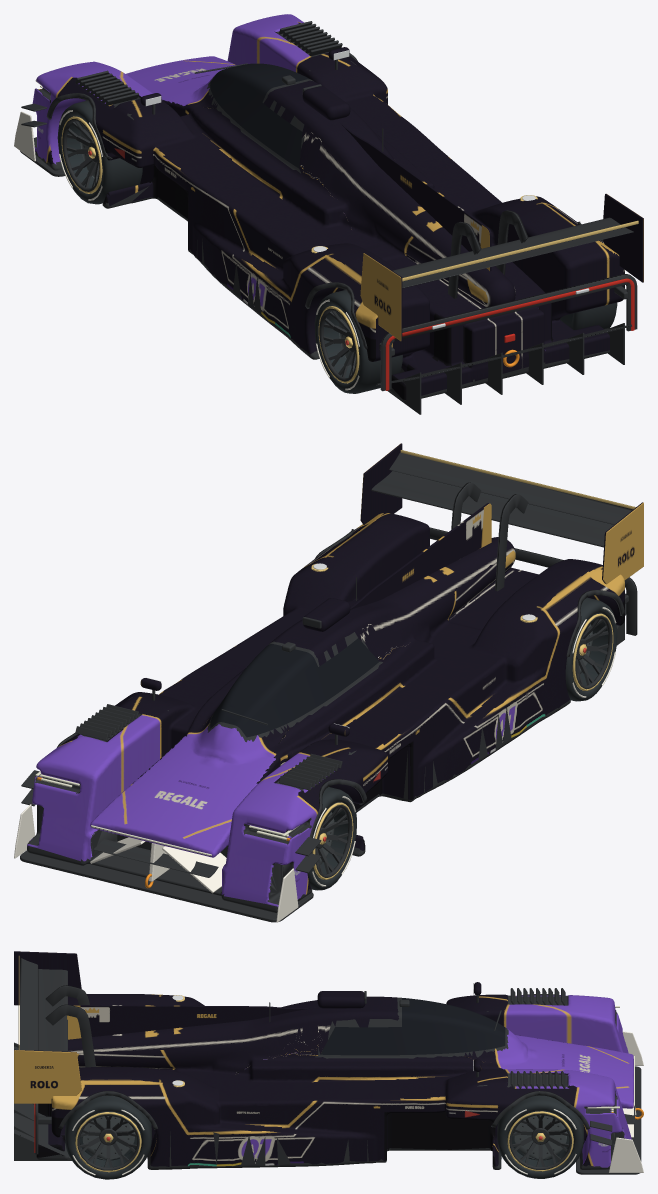
The model's file is regale_lod1.fbx.
The picture shows the model from 3 angles, top to bottom: view 1: azimuth 30°, elevation 25°; view 2: azimuth 150°, elevation 25°; view 3: azimuth 270°, elevation 25°; orthographic projection. The views are drawn at different scales.
Visible parts, largest first — view 1: Body, Wheel_FL_Mesh, Wheel_RL_Mesh, Wheel_RR_Mesh; view 2: Body, Wheel_RL_Mesh, Wheel_FL_Mesh; view 3: Body, Wheel_RR_Mesh, Wheel_FR_Mesh.
Part boxes in pixels (x1,y1,x2,y2): Body: [14, 14, 643, 414]; Wheel_FL_Mesh: [57, 101, 142, 204]; Wheel_RL_Mesh: [314, 290, 402, 393]; Wheel_RR_Mesh: [560, 302, 617, 329]; Body: [14, 443, 643, 922]; Wheel_RL_Mesh: [565, 597, 617, 701]; Wheel_FL_Mesh: [307, 787, 356, 890]; Body: [14, 951, 643, 1174]; Wheel_RR_Mesh: [65, 1095, 151, 1179]; Wheel_FR_Mesh: [497, 1095, 583, 1178].
Size of the model in its own units: 220 by 119 by 500.
14 materials, 1 textured.
